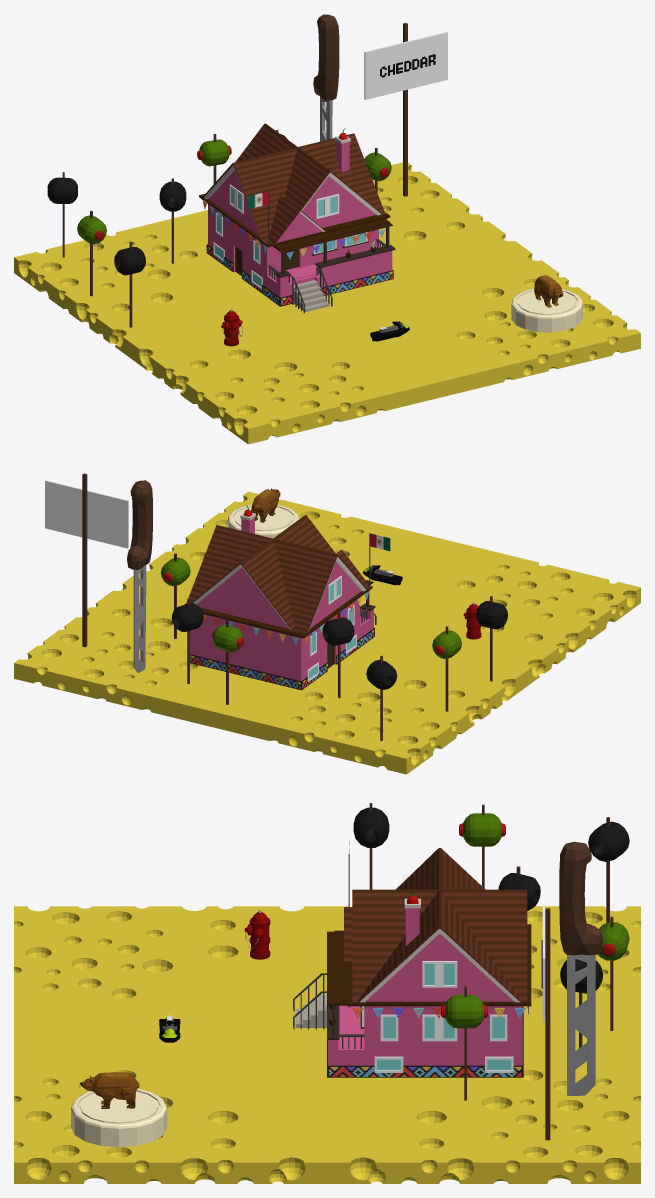
3 renders of one model, top to bottom at view 1: azimuth 30°, elevation 25°; view 2: azimuth 150°, elevation 25°; view 3: azimuth 270°, elevation 25°, orthographic. The views are drawn at different scales.
Parts seen in each view (by area): view 1: Cube.022, Cube.1005, Cube.023, Cylinder.016, Cube.024, Sphere.017, Sphere.016, Sphere.020, Sphere.018, Sphere.022, ANIMAL_OSO, Sphere.019; view 2: Cube.022, Cube.1005, Cube.023, Cube.024, Cylinder.016, Sphere.017, Sphere.020, Sphere.021, Sphere.016, Sphere.018, Sphere.022, Sphere.019 (+3 smaller); view 3: Cube.022, Cube.1005, Cube.024, Cylinder.016, Cube.023, Sphere.019, Sphere.016, ANIMAL_OSO, Sphere.018, Sphere.017, Sphere.022, OBJRANDOM_FIRE_HYDRANT (+2 smaller).
Boxes of the visible parts, <box> form: Cube.022: <box>14,162,640,444</box>; Cube.1005: <box>199,123,395,313</box>; Cube.023: <box>364,23,447,196</box>; Cylinder.016: <box>511,288,582,332</box>; Cube.024: <box>313,14,339,141</box>; Sphere.017: <box>114,242,145,327</box>; Sphere.016: <box>47,172,77,257</box>; Sphere.020: <box>159,178,186,263</box>; Sphere.018: <box>77,210,106,296</box>; Sphere.022: <box>197,134,231,183</box>; ANIMAL_OSO: <box>534,275,563,307</box>; Sphere.019: <box>364,148,391,192</box>; Cube.022: <box>14,491,640,774</box>; Cube.1005: <box>184,505,390,690</box>; Cube.023: <box>45,473,128,647</box>; Cube.024: <box>127,480,152,672</box>; Cylinder.016: <box>228,504,298,538</box>; Sphere.017: <box>476,596,507,681</box>; Sphere.020: <box>322,612,354,698</box>; Sphere.021: <box>171,598,203,683</box>; Sphere.016: <box>366,655,397,741</box>; Sphere.018: <box>432,626,461,711</box>; Sphere.022: <box>212,619,244,704</box>; Sphere.019: <box>160,553,190,638</box>; Cube.022: <box>14,906,640,1183</box>; Cube.1005: <box>293,841,531,1077</box>; Cube.024: <box>559,841,602,1095</box>; Cylinder.016: <box>71,1088,167,1147</box>; Cube.023: <box>541,904,550,1140</box>; Sphere.019: <box>441,986,487,1100</box>; Sphere.016: <box>588,817,629,922</box>; ANIMAL_OSO: <box>80,1072,139,1108</box>; Sphere.018: <box>459,804,505,888</box>; Sphere.017: <box>353,803,389,889</box>; Sphere.022: <box>598,916,629,1030</box>; OBJRANDOM_FIRE_HYDRANT: <box>244,910,270,959</box>.
Size of the model in its own units: 3917 by 2007 by 4000.
70 materials, 5 textured.
